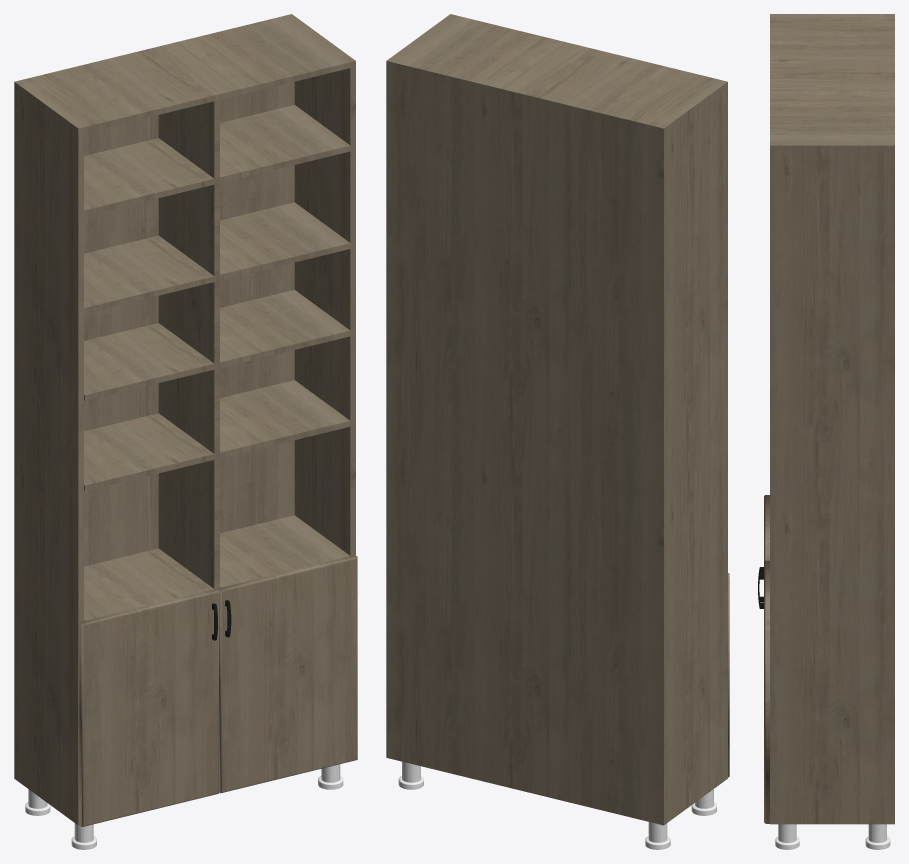
3 renders of one model, left to right at view 1: azimuth 30°, elevation 25°; view 2: azimuth 150°, elevation 25°; view 3: azimuth 270°, elevation 25°, orthographic. The views are drawn at different scales.
Parts seen in each view (by area): view 1: Box024, Box025, Box033, Box032, Box026, Box027, Box029, Box028, Box030; view 2: Box024; view 3: Box024, Box033, Cylinder008, Cylinder009, Box025.
Part boxes in pixels (x1,y1,x2,y2): Box024: (14,14,355,825); Box025: (79,588,218,826); Box033: (217,555,357,793); Box032: (158,100,219,588); Box026: (84,380,351,491); Box027: (84,290,351,400); Box029: (84,202,350,313); Box028: (84,105,350,216); Box030: (84,515,349,620); Box024: (386,14,727,825); Box024: (770,14,894,824); Box033: (764,560,769,823); Cylinder008: (865,824,890,849); Cylinder009: (775,824,799,849); Box025: (764,495,769,561).
Size of the model in its own units: 1 by 2.5 by 0.4389.
Materials: 3 (1 with a texture image).
